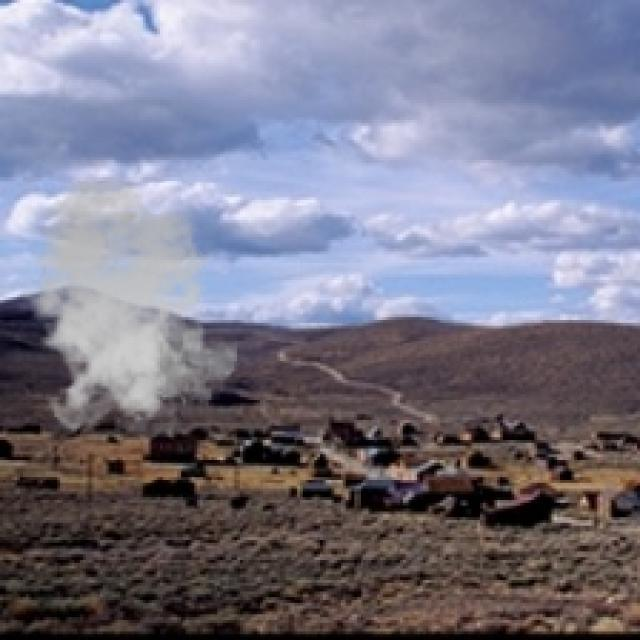Smoke: (9, 174, 238, 437)
